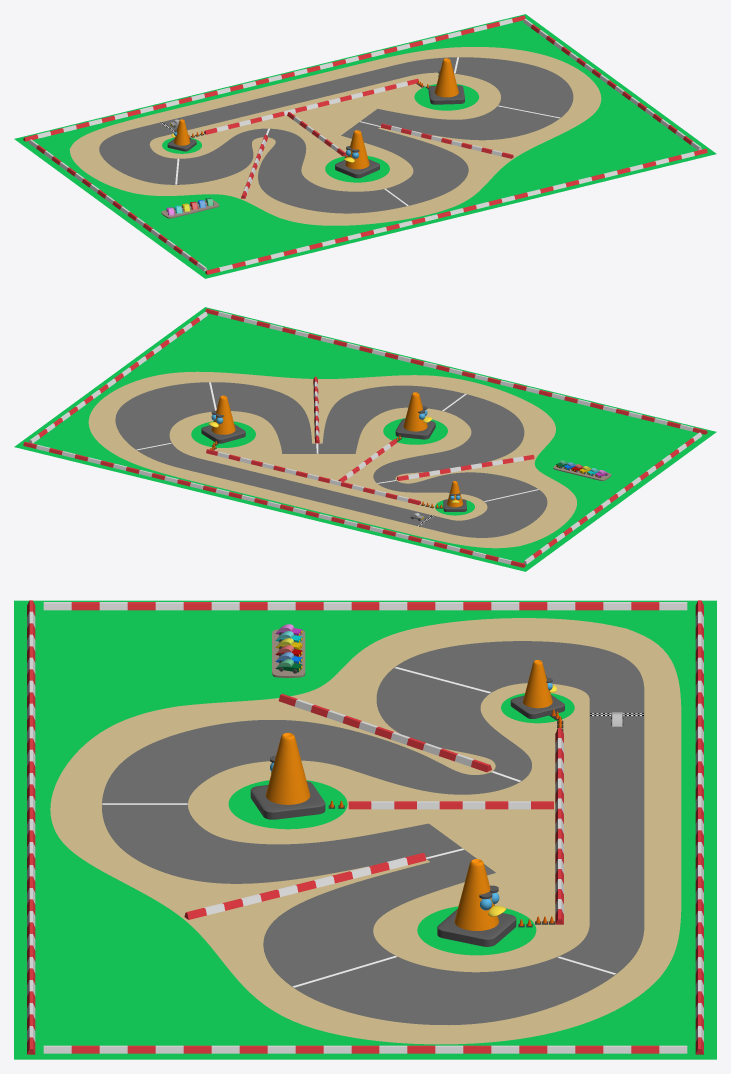
Rendered from Track4.fbx.
3 renders of one model, top to bottom at view 1: azimuth 30°, elevation 25°; view 2: azimuth 150°, elevation 25°; view 3: azimuth 270°, elevation 25°, orthographic. The views are drawn at different scales.
Parts seen in each view (by area): view 1: Grass, Gravel, Road, Barrier.006, Barrier.007, Barrier.009, Barrier.008, Barrier.001, BigCone1, BigCone2, GrassCircle1, GrassCircle2 (+2 smaller); view 2: Grass, Gravel, Road, Barrier.006, Barrier.007, Barrier.009, Barrier.008, Barrier.001, BigCone2, BigCone1, GrassCircle1, GrassCircle2 (+1 smaller); view 3: Grass, Gravel, Road, Barrier.008, Barrier.009, Barrier.006, Barrier.007, BigCone2, BigCone1, GrassCircle2, GrassCircle1, Barrier.002 (+5 smaller).
Part boxes in pixels (x1,y1,x2,y2): Grass: (14,14,716,278); Gravel: (69,47,601,225); Road: (99,57,573,213); Barrier.006: (23,15,525,141); Barrier.007: (205,148,707,274); Barrier.009: (29,139,207,271); Barrier.008: (523,19,701,150); Barrier.001: (204,78,418,134); BigCone1: (428,58,464,104); BigCone2: (335,130,379,178); GrassCircle1: (414,84,479,110); GrassCircle2: (325,156,389,182); Grass: (14,307,716,571); Gravel: (88,371,576,548); Road: (115,382,547,537); Barrier.006: (23,441,525,567); Barrier.007: (205,308,707,434); Barrier.009: (523,432,701,564); Barrier.008: (29,312,207,443); Barrier.001: (206,449,421,504); BigCone2: (395,392,435,439); BigCone1: (201,395,245,443); GrassCircle1: (191,421,255,447); GrassCircle2: (383,418,447,444); Grass: (14,600,716,1059); Gravel: (50,618,681,1044); Road: (102,641,644,1025); Barrier.008: (43,1045,687,1053); Barrier.009: (43,602,687,610); Barrier.006: (695,600,703,1054); Barrier.007: (27,600,35,1054); BigCone2: (250,732,325,819); BigCone1: (437,859,516,946); GrassCircle2: (228,780,347,829); GrassCircle1: (417,906,536,955); Barrier.002: (184,853,426,919).
Bounding box in the file's own units: 262 × 170 × 18.48.
